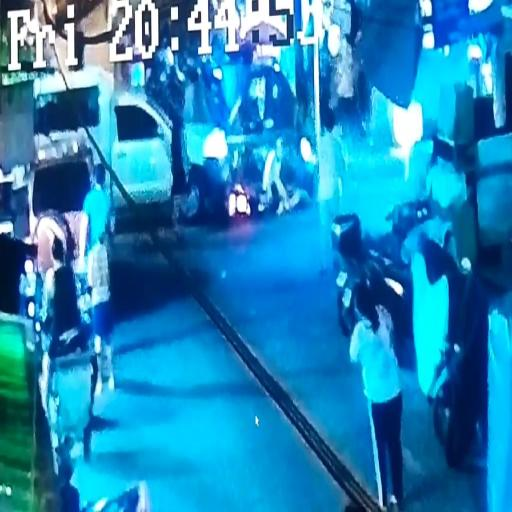Car: (32, 58, 236, 232), (13, 123, 122, 289)
Major Accident: (33, 44, 359, 232)
Motor: (208, 101, 346, 245), (315, 184, 429, 351)
